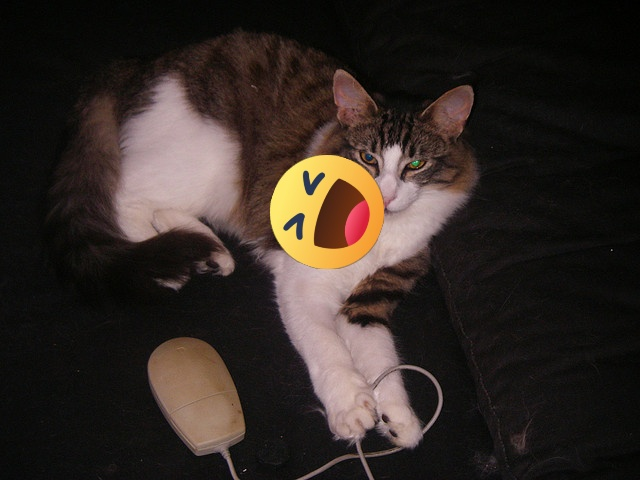haha: (270, 155, 384, 269)
